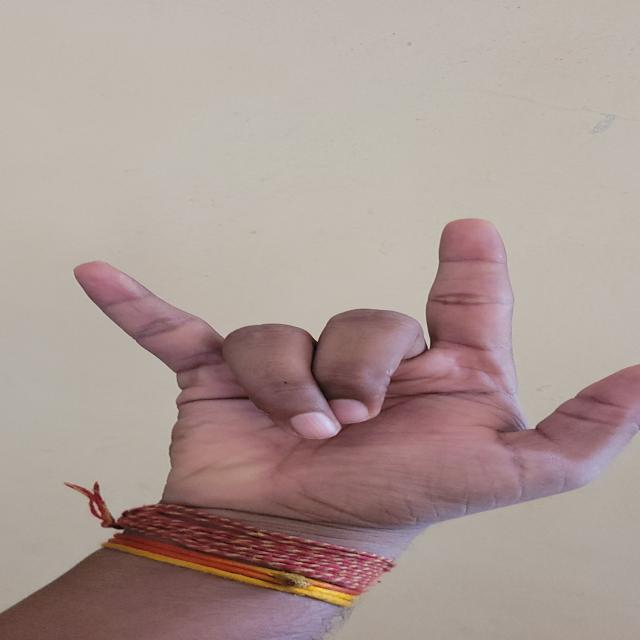i like you: (40, 181, 640, 597)
